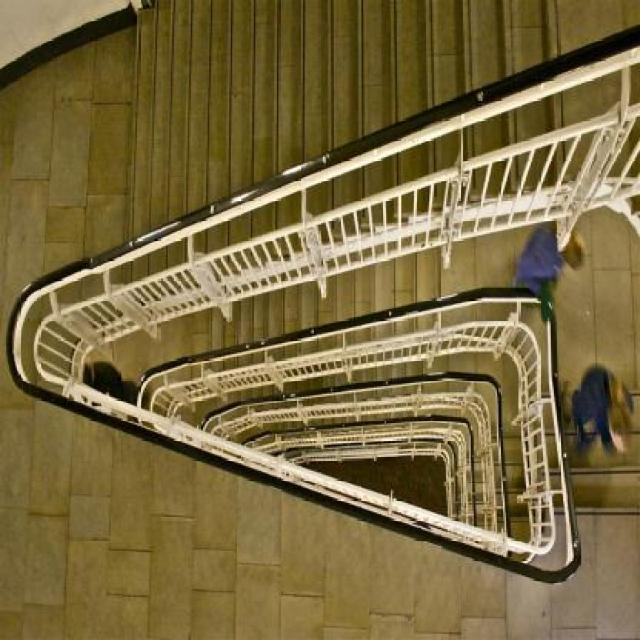stair: (126, 0, 640, 535)
